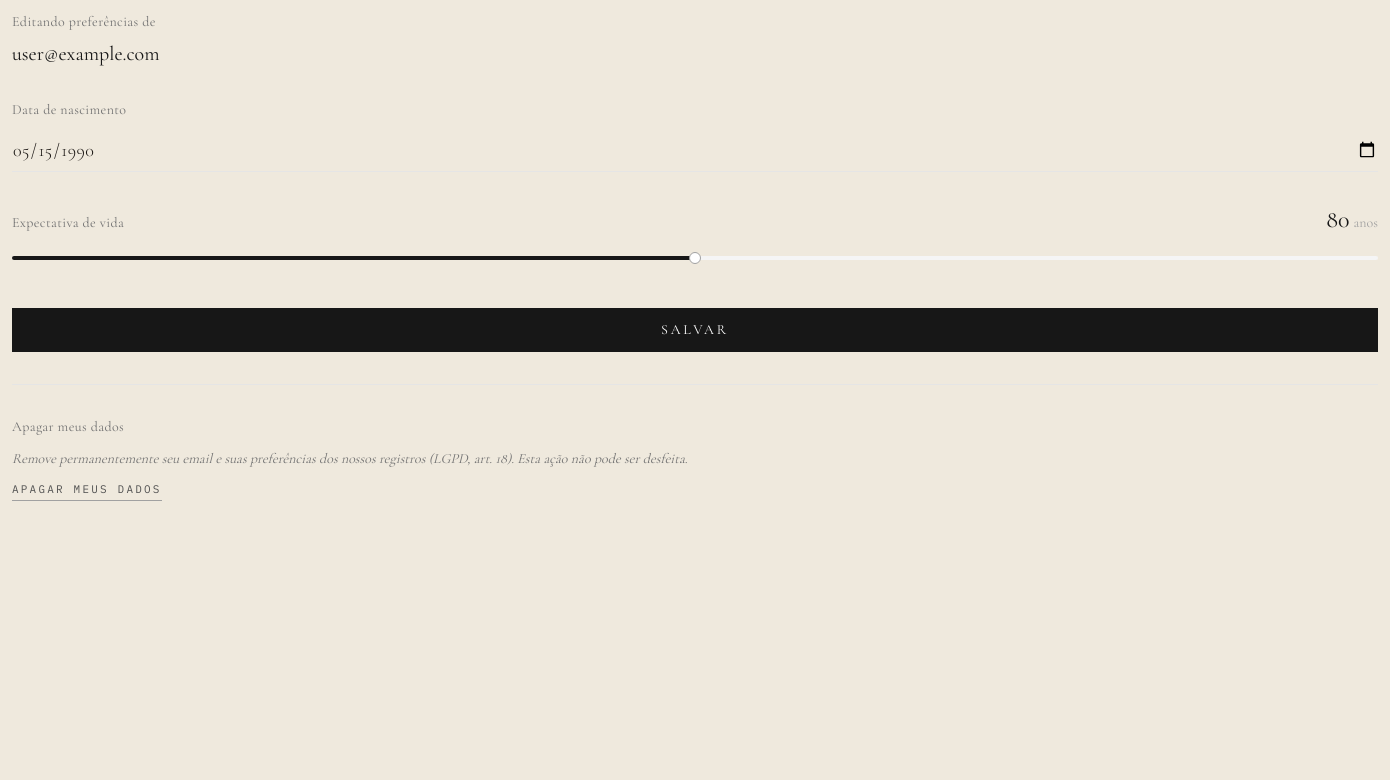
Test case: EditForm (Feature E.16) › on success renders 'Suas preferências foram atualizadas.'
Click the button "Salvar": (695, 330) x1=12 y1=308 x2=1378 y2=352
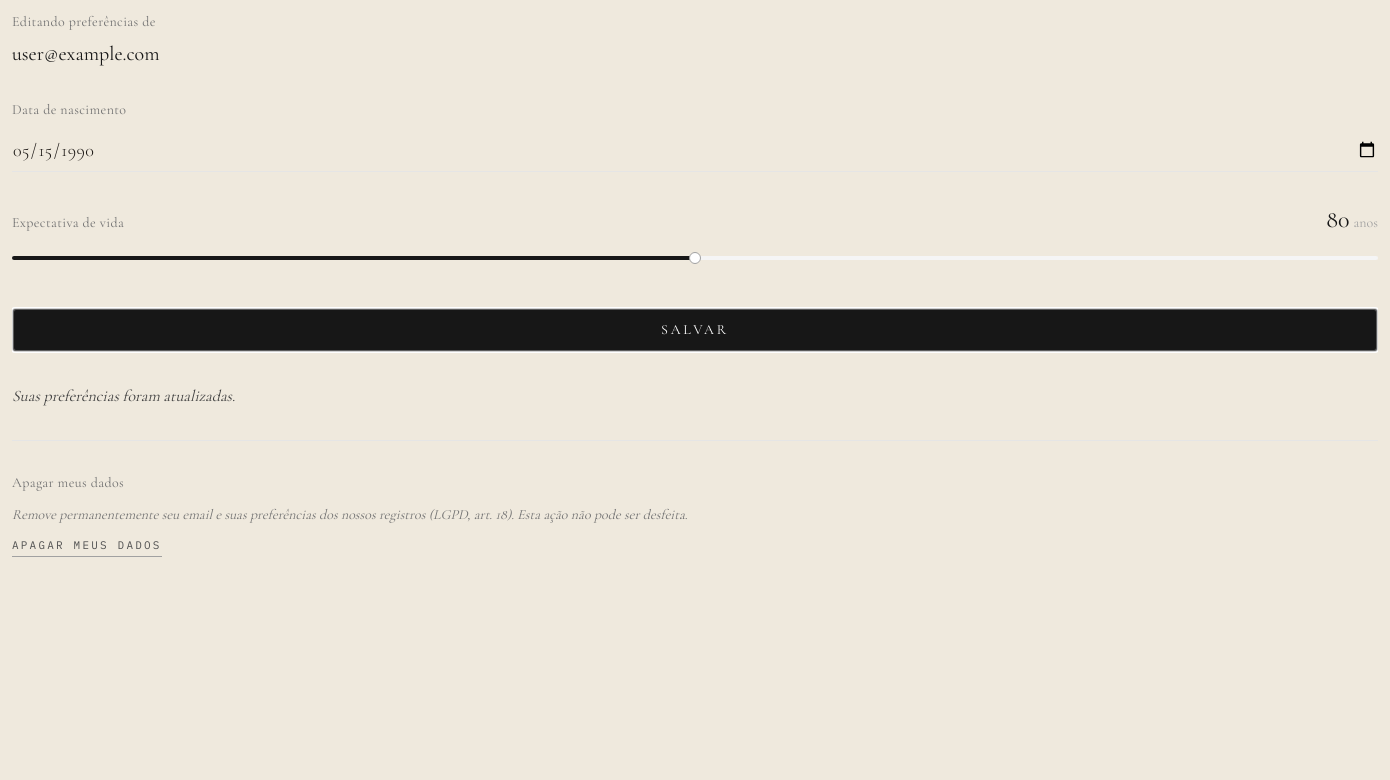
Now the text "Suas preferências foram atualizadas." is shown, box x1=12 y1=386 x2=235 y2=406
